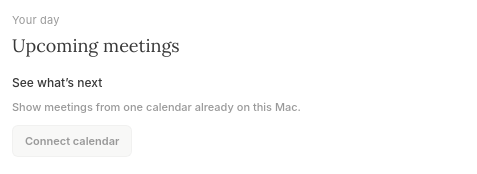
UpcomingMeetings › uses the compact footprint for first-run and denied states
Later steps or results of the test are not shown.
Click the button with aria-label "Connect Calendar". click: (72, 141)
box: x1=12 y1=125 x2=132 y2=157
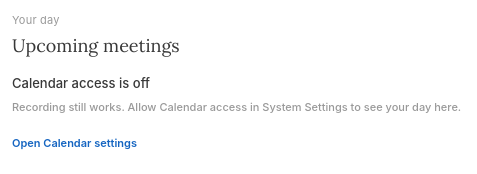
expect the text "Calendar access is off" is shown: met, box x1=12 y1=75 x2=150 y2=91
